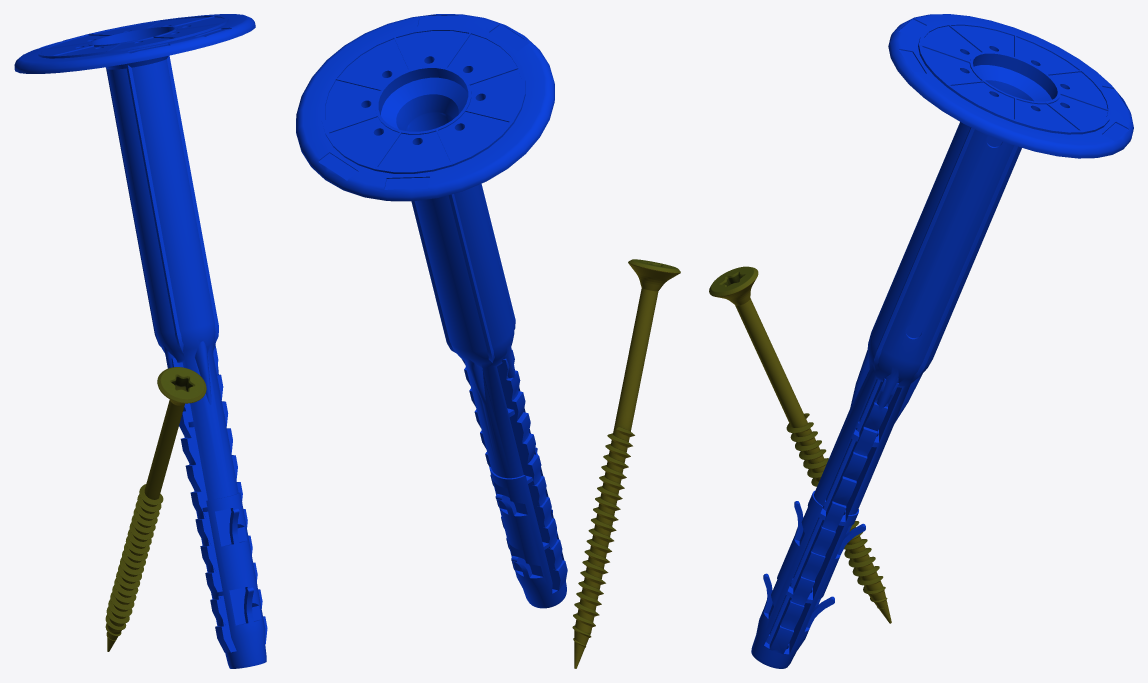
Rendered from LXK.glb.
3 renders of one model, left to right at view 1: azimuth 30°, elevation 25°; view 2: azimuth 150°, elevation 25°; view 3: azimuth 270°, elevation 25°, orthographic. The views are drawn at different scales.
Visible parts, largest first — view 1: 01_MAIN_BODY.006, Cylinder; view 2: 01_MAIN_BODY.006, Cylinder; view 3: 01_MAIN_BODY.006, Cylinder.
Boxes of the visible parts, <box> form: 01_MAIN_BODY.006: <box>14,14,267,668</box>; Cylinder: <box>105,367,206,651</box>; 01_MAIN_BODY.006: <box>296,14,567,608</box>; Cylinder: <box>572,259,680,668</box>; 01_MAIN_BODY.006: <box>751,14,1133,668</box>; Cylinder: <box>709,266,891,623</box>.
Bounding box in the file's own units: 0.061 × 0.1613 × 0.0991.
2 materials, 1 textured.
